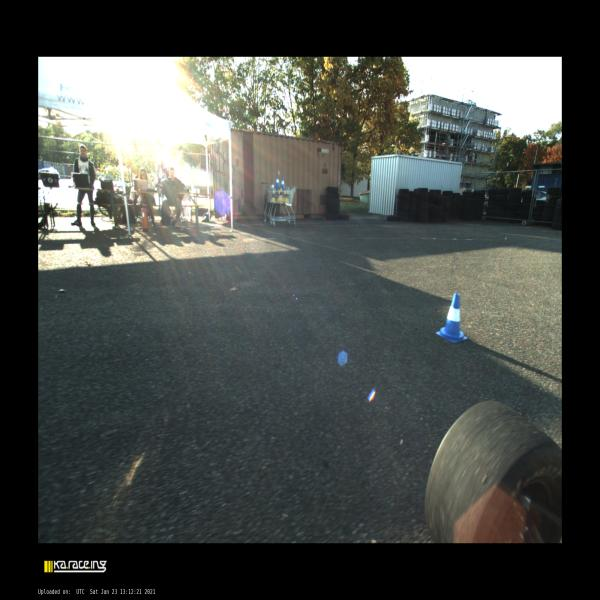blue_cone: (435, 292, 469, 344), (435, 293, 468, 343), (275, 175, 281, 189), (280, 177, 286, 190), (270, 181, 275, 192)
yellow_cone: (270, 190, 277, 204), (284, 190, 290, 204), (279, 188, 283, 201), (283, 190, 286, 202)
